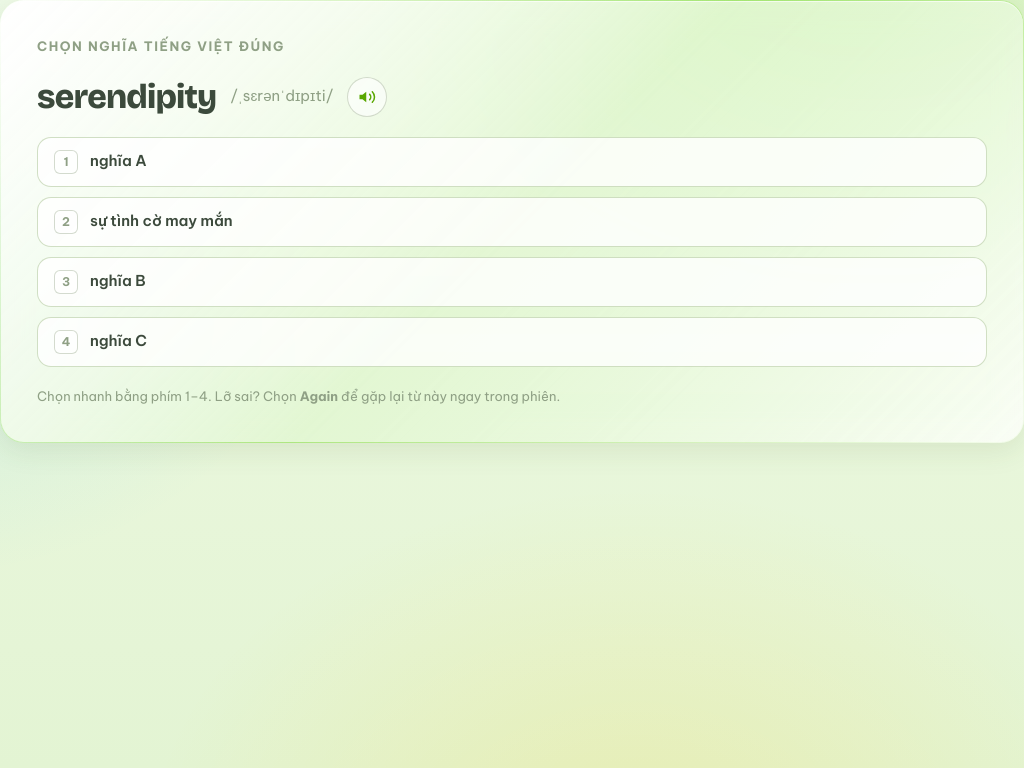
mcq: a wrong pick flips showing the picked answer and the Again hint
The width and height of the screenshot is (1024, 768).
Click the button "3 nghĩa B". click: point(118, 281)
box: [37,256,987,306]
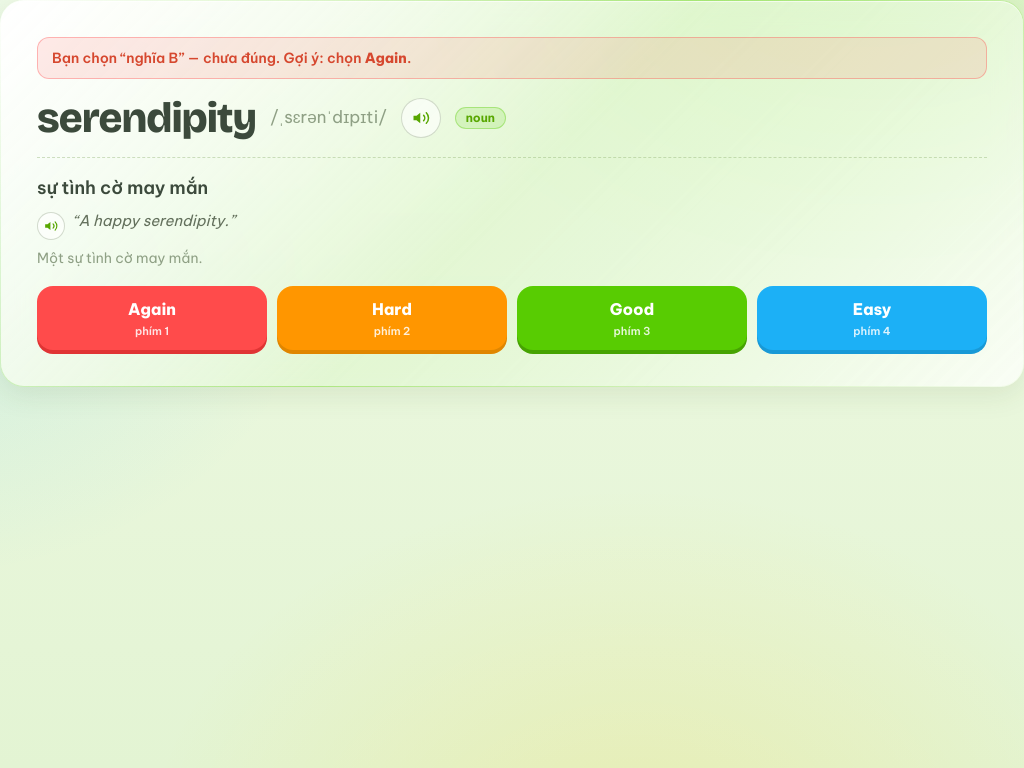
Expected: the text "Again" next to "— chưa đúng. Gợi ý: chọn" is shown, [365,49,407,67]
Expected: the text "Bạn chọn “nghĩa B” — chưa đúng. Gợi ý: chọn Again." is shown, [37,37,987,79]
